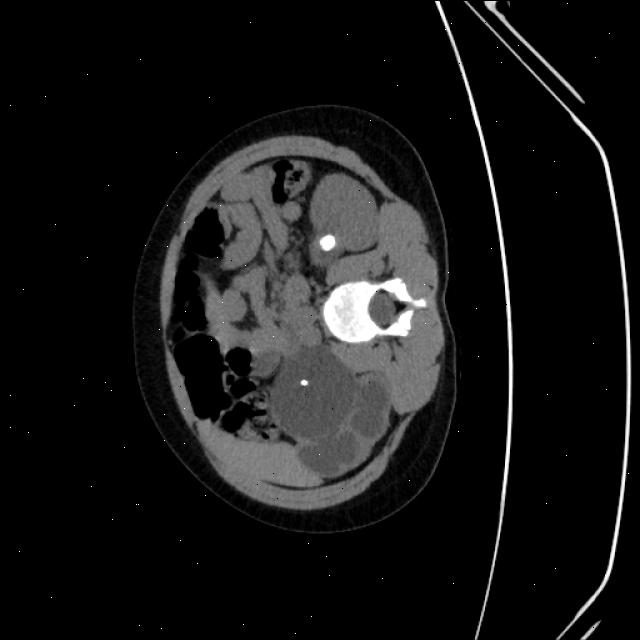kidneystone: (321, 235, 335, 249), (301, 379, 308, 384)
